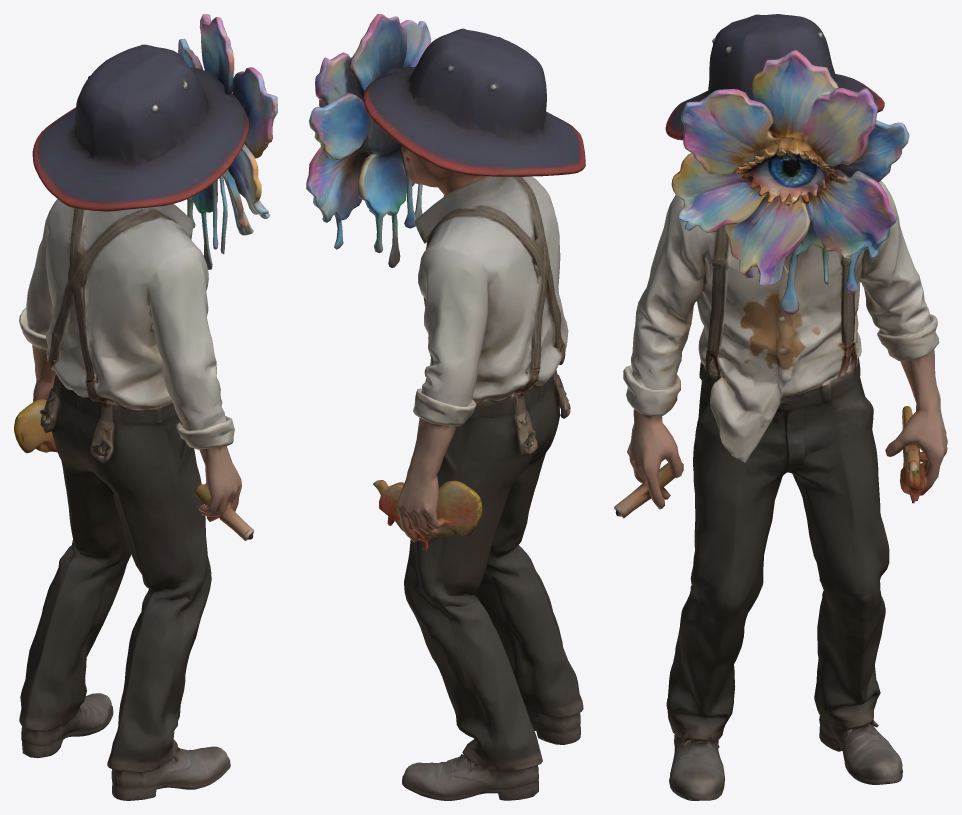
File: npc_oscar.glb
The picture shows the model from 3 angles, left to right: view 1: azimuth 30°, elevation 25°; view 2: azimuth 150°, elevation 25°; view 3: azimuth 270°, elevation 25°; orthographic projection. The views are drawn at different scales.
Parts seen in each view (by area): view 1: tripo_node_c9209fbc-5ba6-4d06-9652-62d416d54b07; view 2: tripo_node_c9209fbc-5ba6-4d06-9652-62d416d54b07; view 3: tripo_node_c9209fbc-5ba6-4d06-9652-62d416d54b07.
Boxes of the visible parts, bbox=[...] form: tripo_node_c9209fbc-5ba6-4d06-9652-62d416d54b07: bbox=[14, 14, 277, 800]; tripo_node_c9209fbc-5ba6-4d06-9652-62d416d54b07: bbox=[306, 14, 585, 800]; tripo_node_c9209fbc-5ba6-4d06-9652-62d416d54b07: bbox=[614, 14, 947, 800].
Bounding box in the file's own units: 0.3079 × 1 × 0.3898.
Materials: 1 (1 with a texture image).
